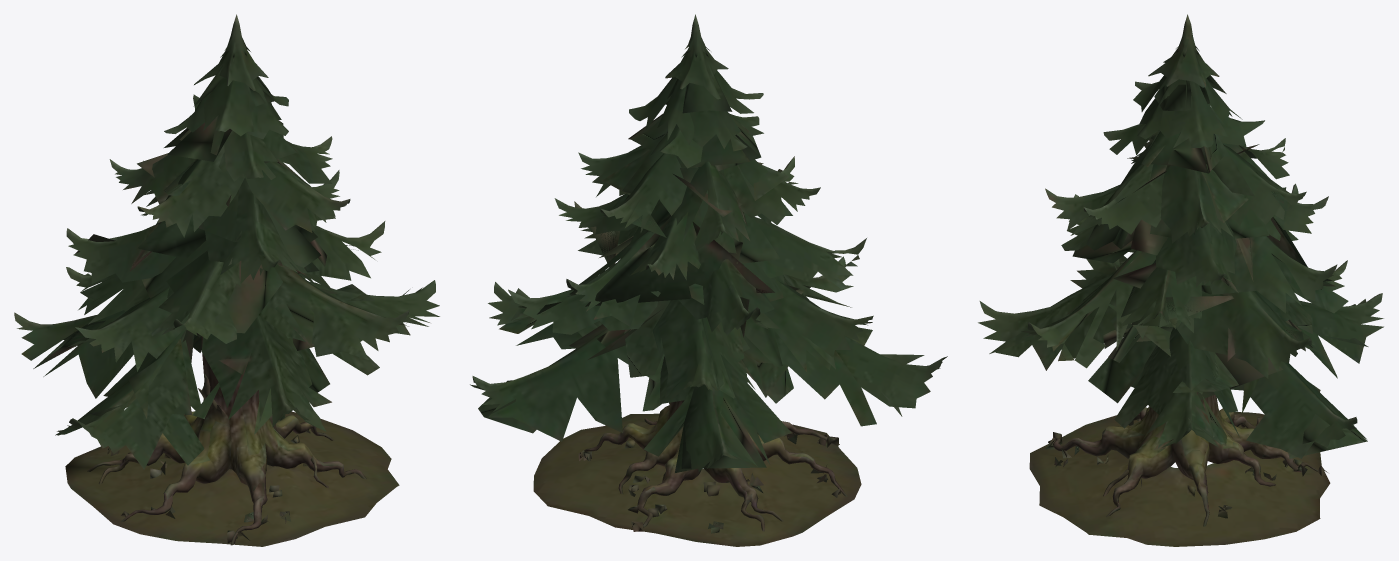
Rendered from pine_wide.glb.
3 renders of one model, left to right at view 1: azimuth 30°, elevation 25°; view 2: azimuth 150°, elevation 25°; view 3: azimuth 270°, elevation 25°, orthographic.
Size of the model in its own units: 0.877 by 0.9541 by 0.7568.
1 material, 1 textured.
